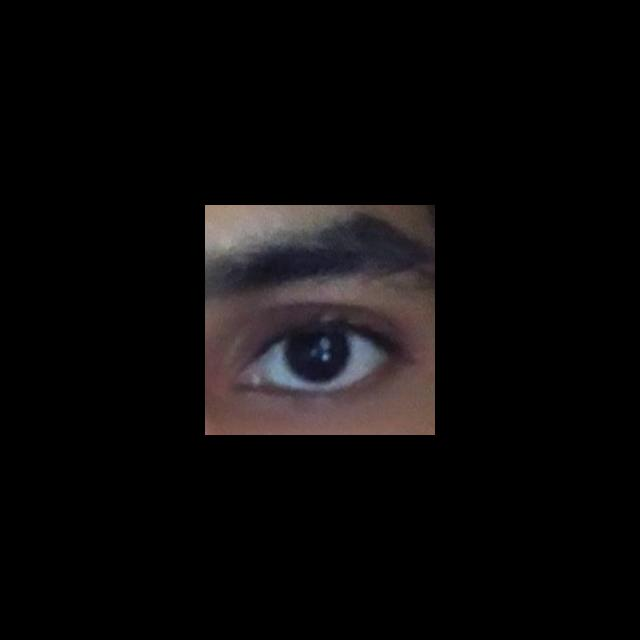eye: (256, 330, 391, 392)
iris: (285, 332, 351, 382)
